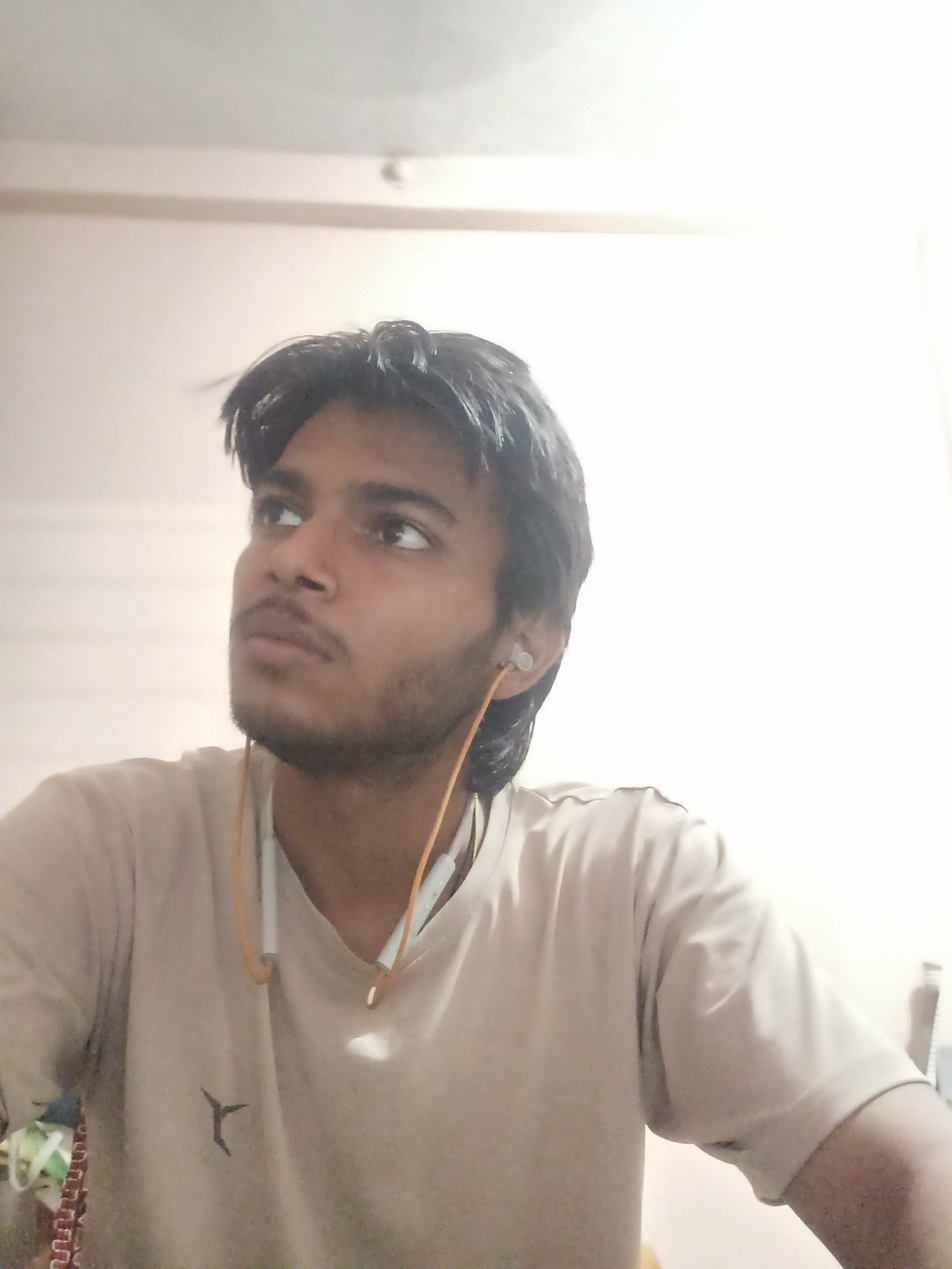distracted: (116, 269, 555, 840)
